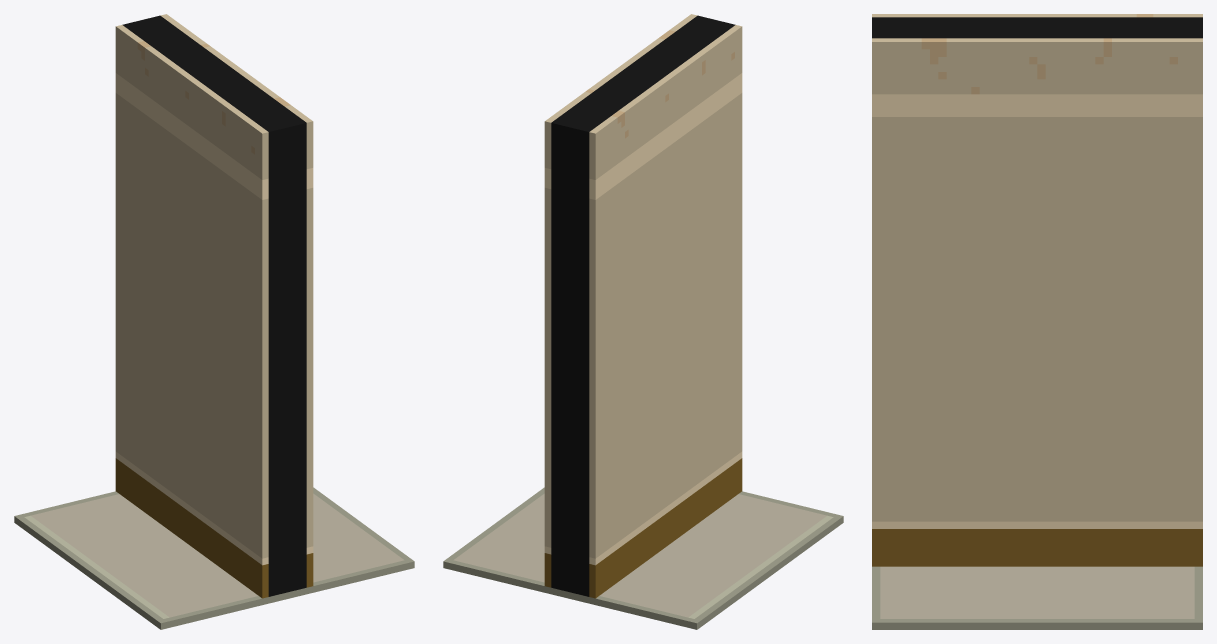
Rendered from Parede_Lisa_2.obj.
The picture shows the model from 3 angles, left to right: view 1: azimuth 30°, elevation 25°; view 2: azimuth 150°, elevation 25°; view 3: azimuth 270°, elevation 25°; orthographic projection. The views are drawn at different scales.
Size of the model in its own units: 40 by 71 by 40.
Materials: 1 (1 with a texture image).
